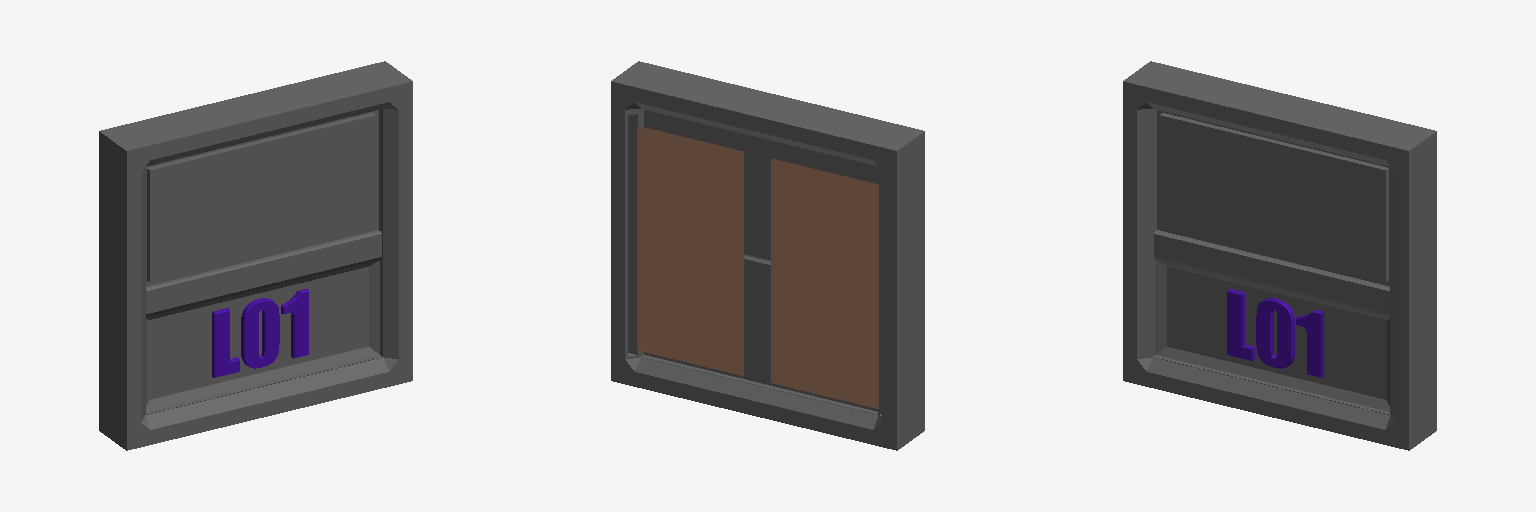
Rendered from Gate.obj.
3 renders of one model, left to right at view 1: azimuth 30°, elevation 25°; view 2: azimuth 150°, elevation 25°; view 3: azimuth 330°, elevation 25°, orthographic.
Parts seen in each view (by area): view 1: Box02, Box01, DoorPart01, Text01; view 2: Box02, Grind02, Grind01, Box01, DoorPart01; view 3: Box02, Box01, DoorPart01, Text01.
Part boxes in pixels (x1,y1,x2,y2): Box02: (99, 61, 412, 450); Box01: (146, 110, 378, 286); DoorPart01: (146, 230, 381, 411); Text01: (212, 289, 308, 377); Box02: (611, 61, 924, 450); Grind02: (771, 158, 878, 408); Grind01: (637, 126, 743, 375); Box01: (644, 110, 877, 260); DoorPart01: (644, 255, 877, 411); Box02: (1123, 61, 1436, 450); Box01: (1157, 110, 1389, 286); DoorPart01: (1154, 230, 1389, 411); Text01: (1227, 289, 1323, 377).
Bounding box in the file's own units: 63.82 × 63.82 × 10.64.